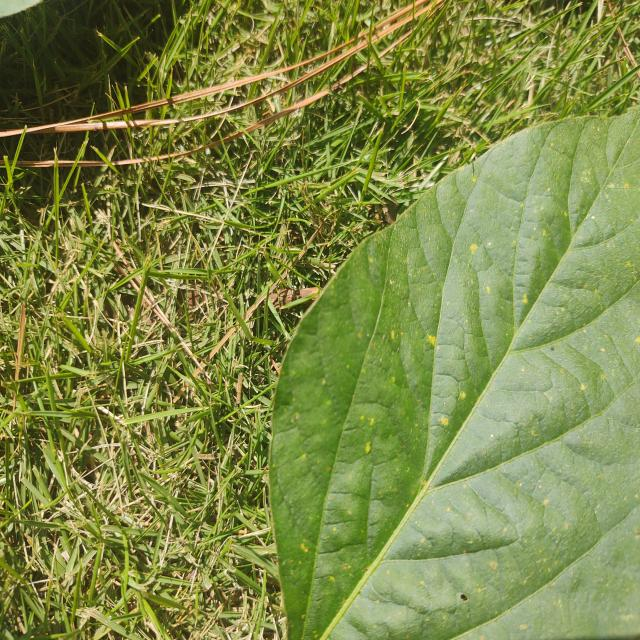Soybean: (269, 102, 640, 640)
downey_mildew: (306, 265, 383, 503), (536, 208, 640, 338), (270, 425, 334, 631), (363, 316, 462, 422), (346, 383, 413, 539), (430, 274, 486, 444), (520, 338, 612, 433), (408, 192, 450, 395), (520, 465, 602, 566), (354, 331, 413, 447), (338, 243, 388, 379), (457, 177, 523, 280), (418, 552, 509, 625), (472, 385, 559, 461), (512, 205, 560, 335), (567, 176, 637, 258), (287, 371, 339, 477), (473, 130, 545, 203), (321, 452, 371, 553), (374, 240, 417, 356), (477, 254, 518, 370), (590, 303, 640, 392), (564, 406, 638, 466), (398, 297, 431, 412), (372, 561, 443, 609)
